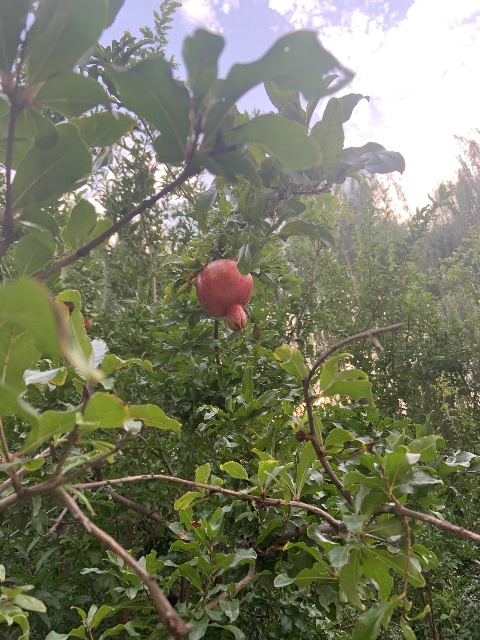ripe: (195, 259, 253, 333)
